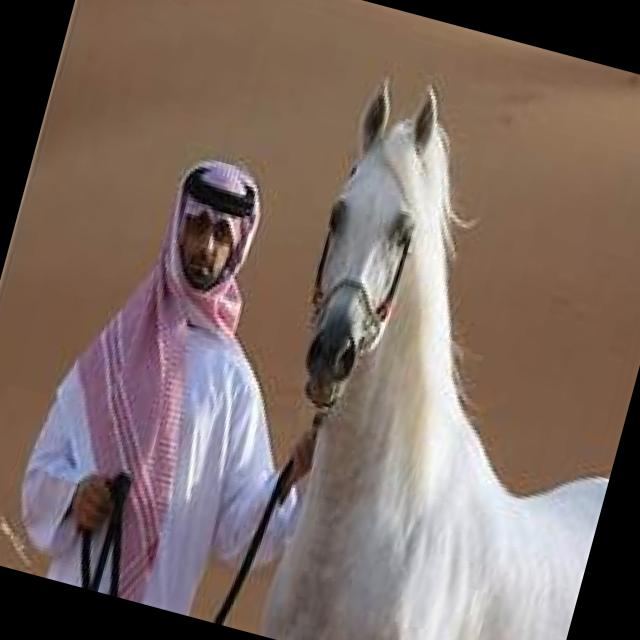animal: (218, 67, 640, 640)
